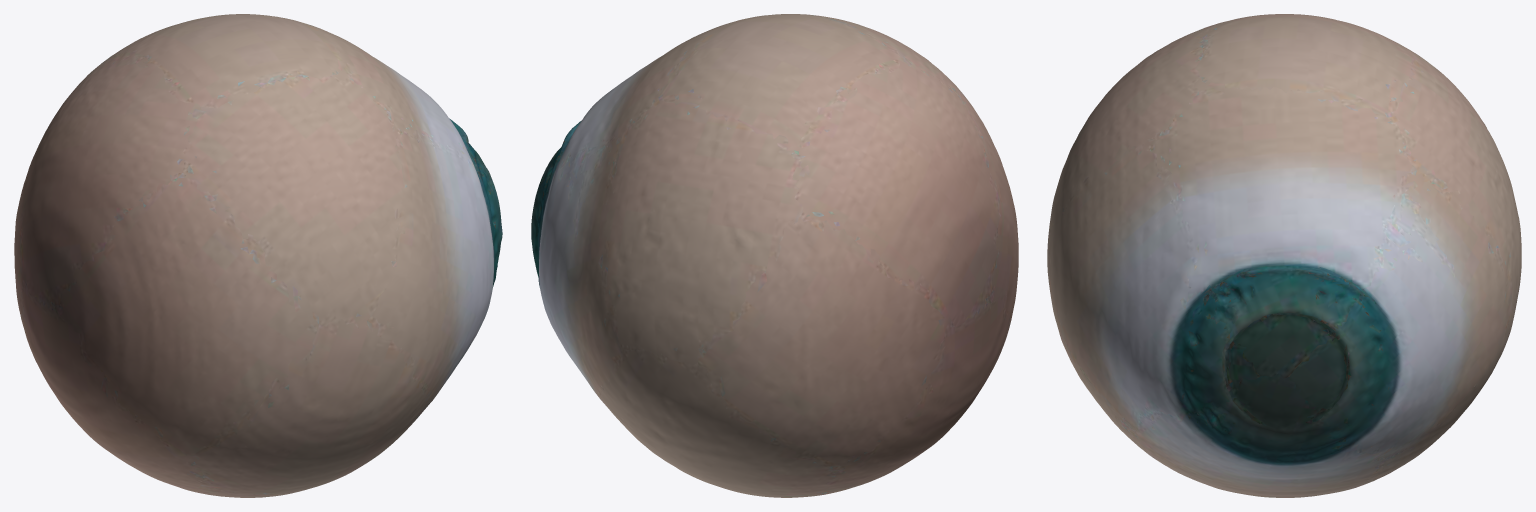
The model's file is keratoconus-eye.glb.
The picture shows the model from 3 angles, left to right: view 1: azimuth 30°, elevation 25°; view 2: azimuth 150°, elevation 25°; view 3: azimuth 270°, elevation 25°; orthographic projection.
Visible parts, largest first — view 1: KeratoconusEye; view 2: KeratoconusEye; view 3: KeratoconusEye.
Boxes of the visible parts, x1,y1,x2,y2 form: KeratoconusEye: (14, 14, 502, 497); KeratoconusEye: (531, 14, 1018, 497); KeratoconusEye: (1047, 14, 1521, 497).
Size of the model in its own units: 0.00058 by 0.000568 by 0.000552.
Materials: 1 (1 with a texture image).
